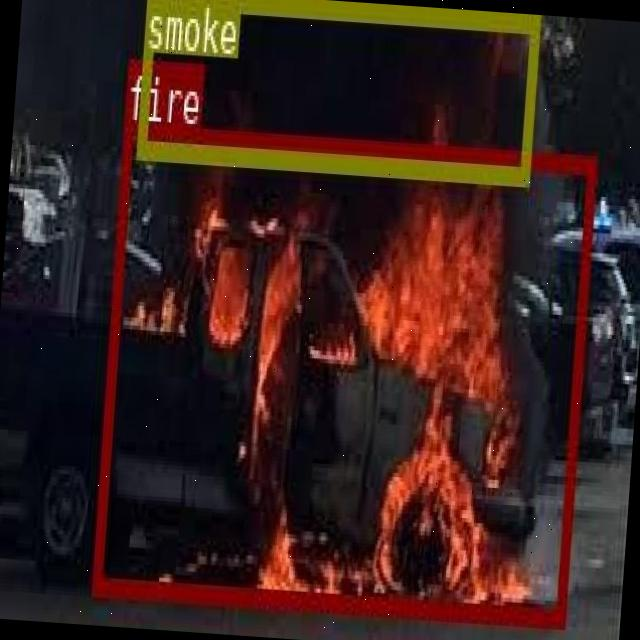fire: (90, 121, 596, 624)
smoke: (134, 0, 537, 183)
